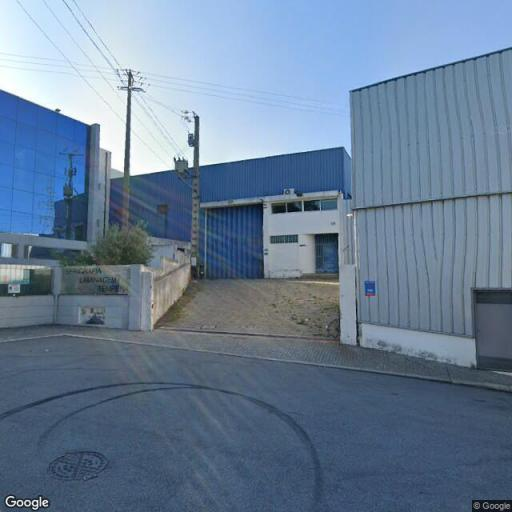mono_7: (116, 61, 142, 230), (185, 107, 208, 280)
